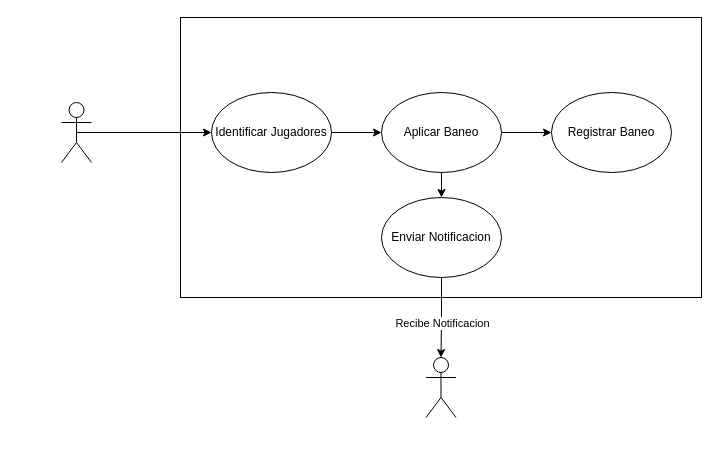
Some shapes in this 719 by 456 pixel diagram are drawn without their labels. The centre of each missing label's shape, as x and y in pixels:
Usuario: point (440, 387)
Usuario Administrador: point (76, 132)
